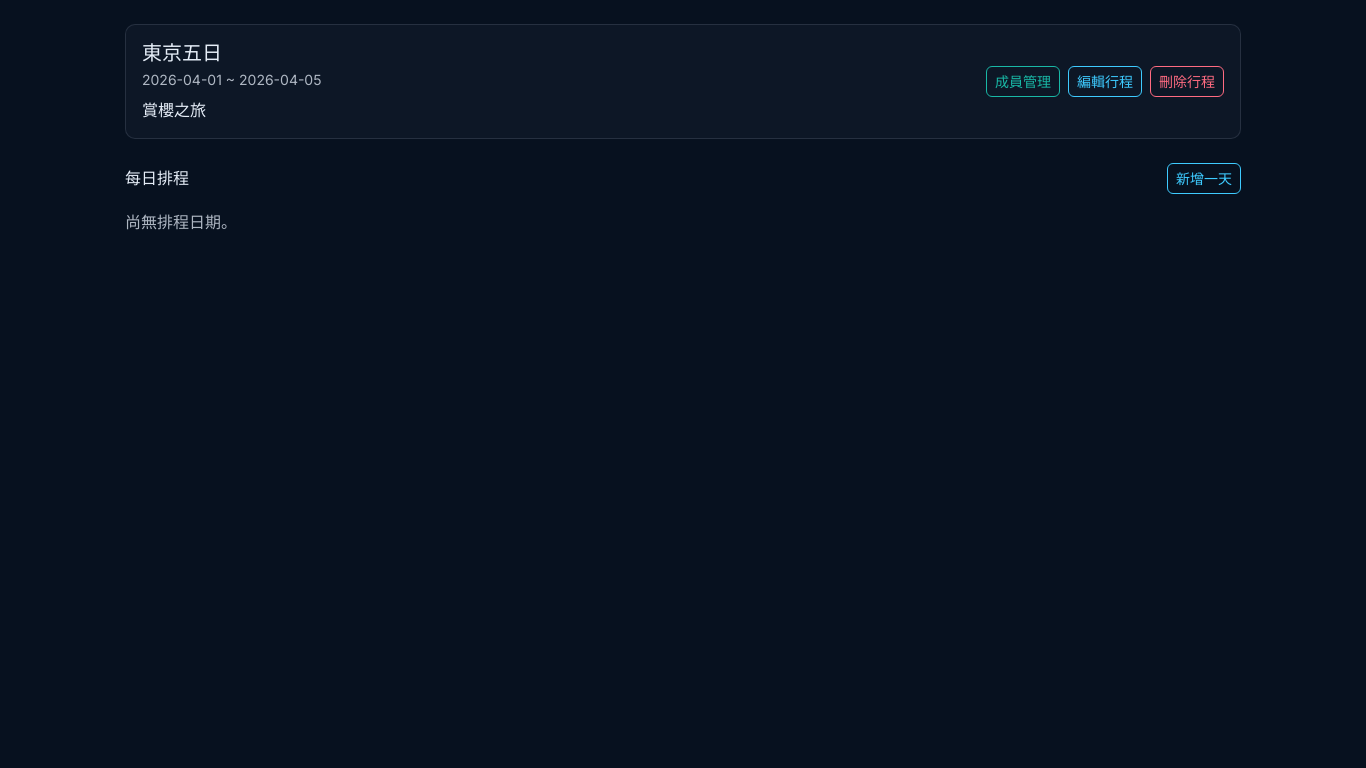
Test: TripDetailPage › 編輯與刪除行程 › 縮小日期範圍導致既有天超出時顯示後端 400 錯誤且不視為成功
Click the button "編輯行程" at (1105, 82), box 1068,66 -> 1142,97
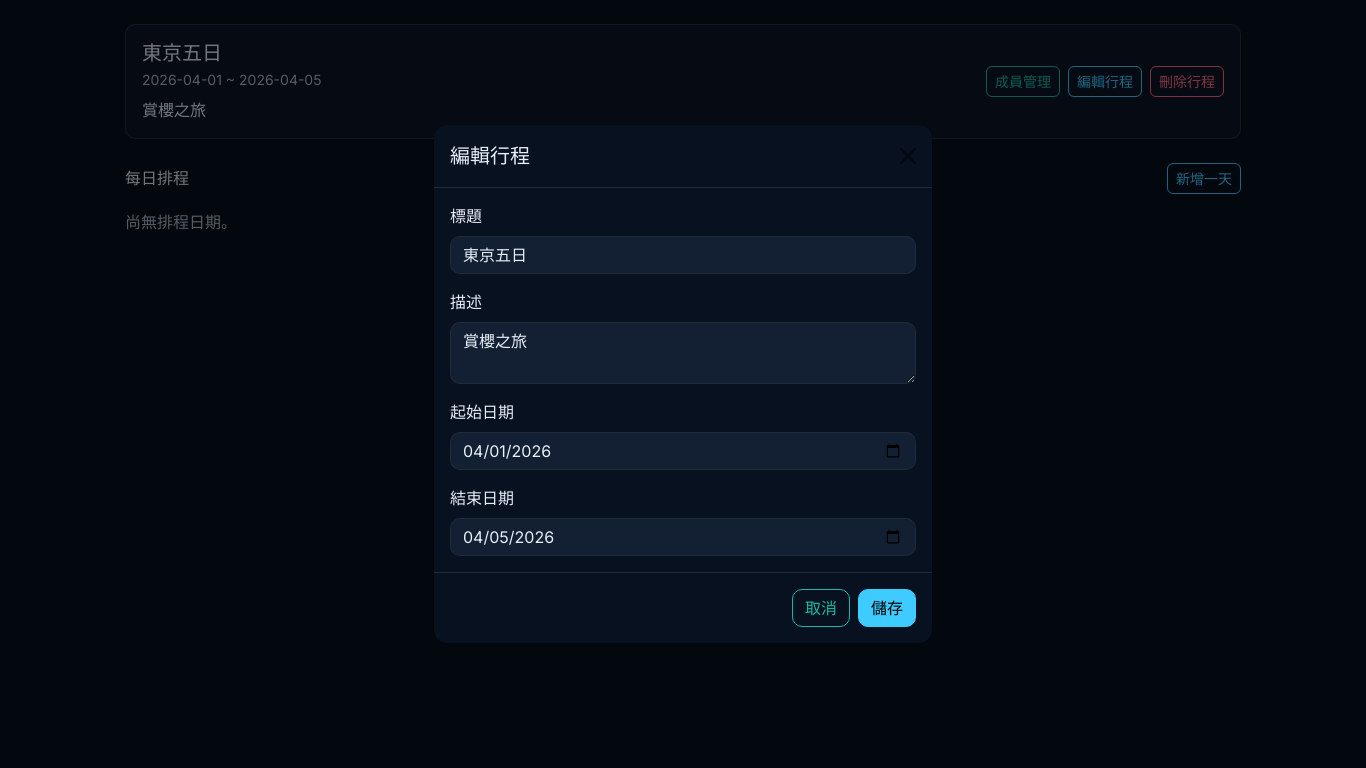
Type "2026-04-02" into the date field labelled "結束日期" at (683, 537), box 450,518 -> 916,556
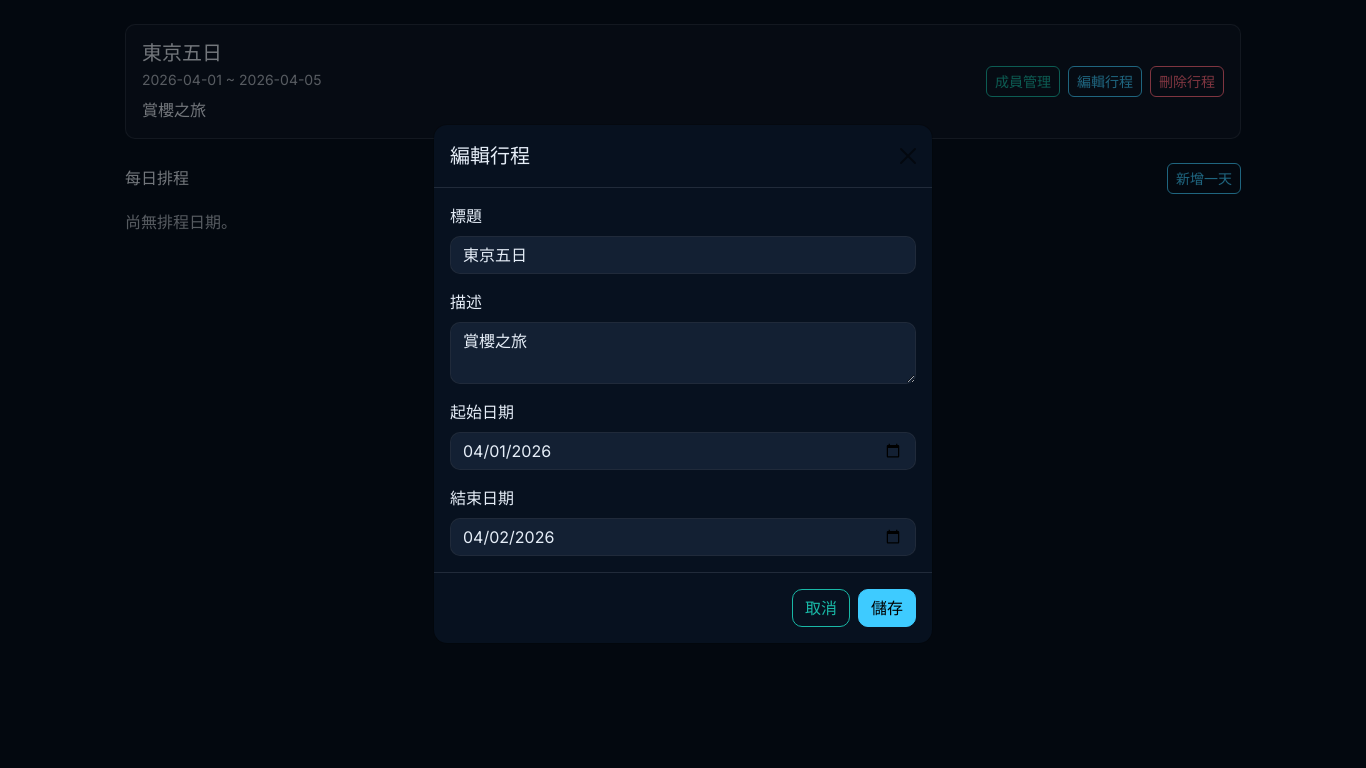
Click the button "儲存" at (887, 608), box 858,589 -> 916,627
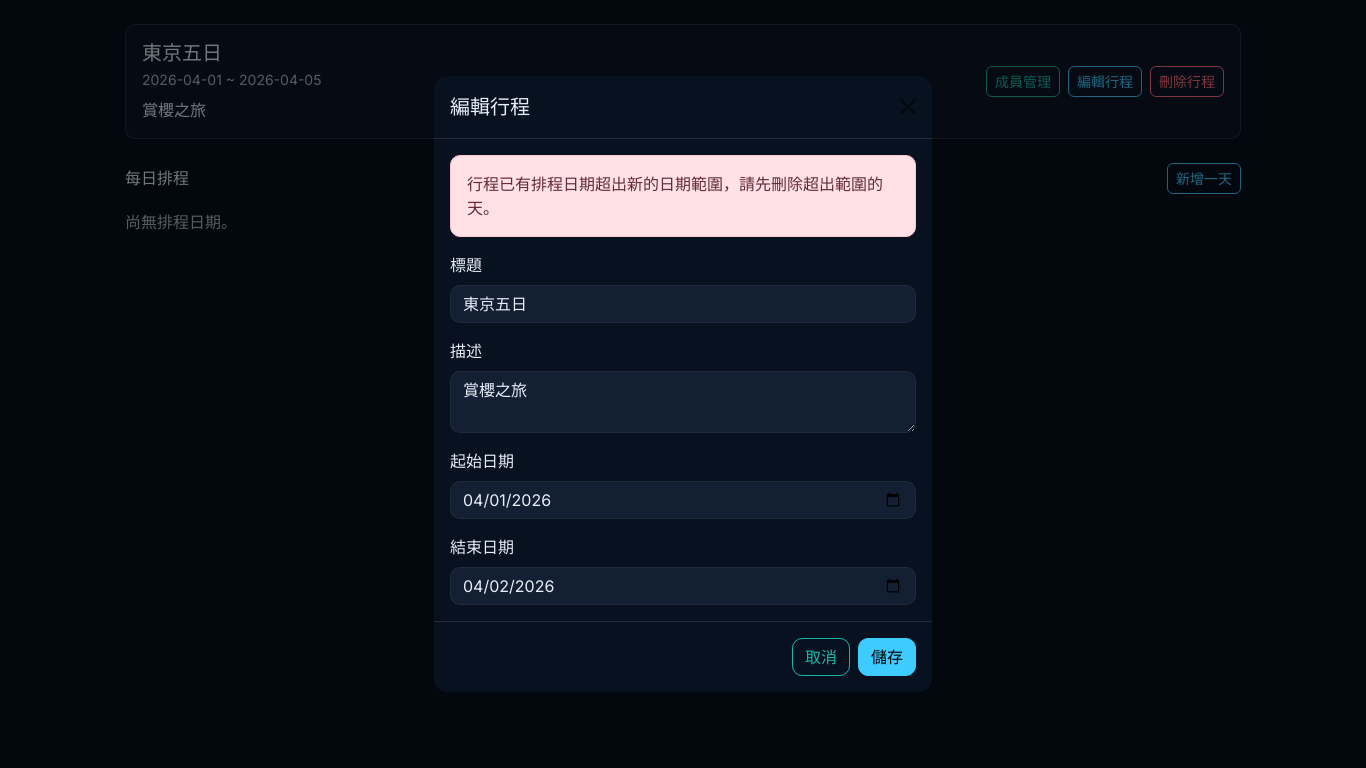
Expected: the text "行程已有排程日期超出新的日期範圍，請先刪除超出範圍的天。" is shown, 450,155 -> 916,237
